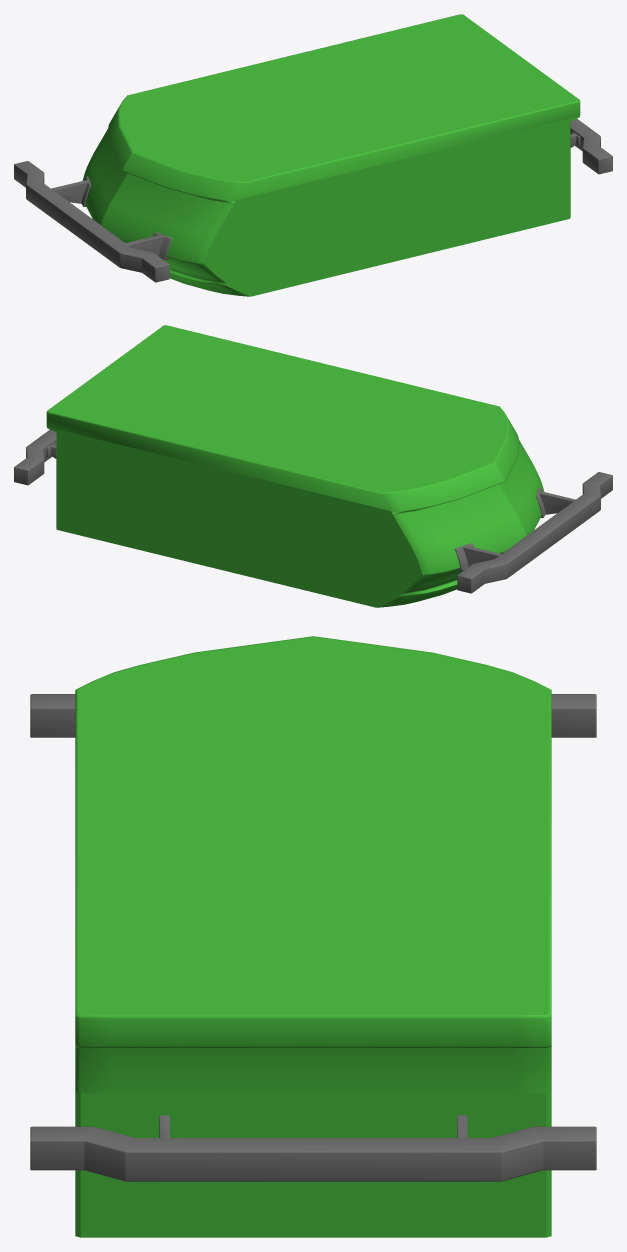
The model's file is green_chassis.dae.
3 views of the same model, one above another, from view 1: azimuth 30°, elevation 25°; view 2: azimuth 150°, elevation 25°; view 3: azimuth 270°, elevation 25° (orthographic). The views are drawn at different scales.
Visible parts, largest first — view 1: X1_Body; view 2: X1_Body; view 3: X1_Body.
Part boxes in pixels (left/top/right/bottom): X1_Body: left=14, top=14, right=612, bottom=296; X1_Body: left=14, top=325, right=612, bottom=607; X1_Body: left=30, top=636, right=596, bottom=1237.
Bounding box in the file's own units: 0.9896 × 0.505 × 0.2272.
